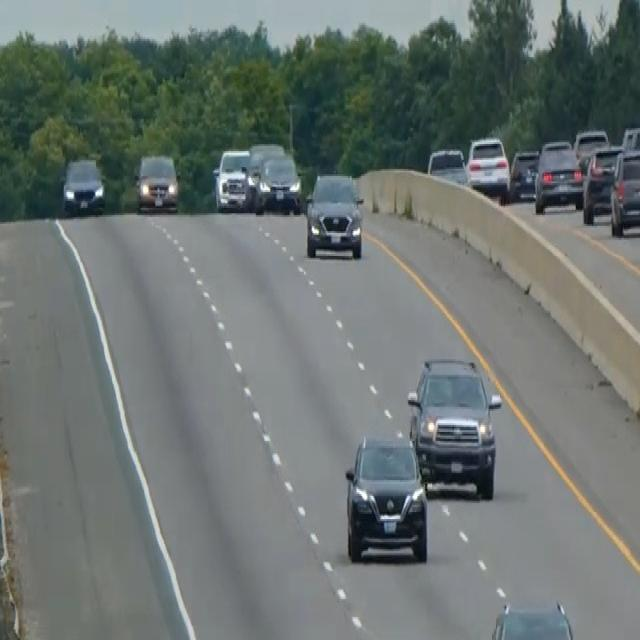car: (304, 169, 364, 259), (534, 137, 583, 213), (581, 142, 623, 224), (465, 133, 510, 201), (256, 151, 302, 213), (61, 155, 105, 217), (609, 146, 639, 236), (246, 140, 284, 210), (426, 144, 467, 187), (509, 147, 539, 201), (573, 126, 608, 162), (620, 123, 639, 153)
jeep: (406, 352, 502, 500), (342, 430, 430, 566), (488, 598, 575, 638), (213, 144, 253, 212)
